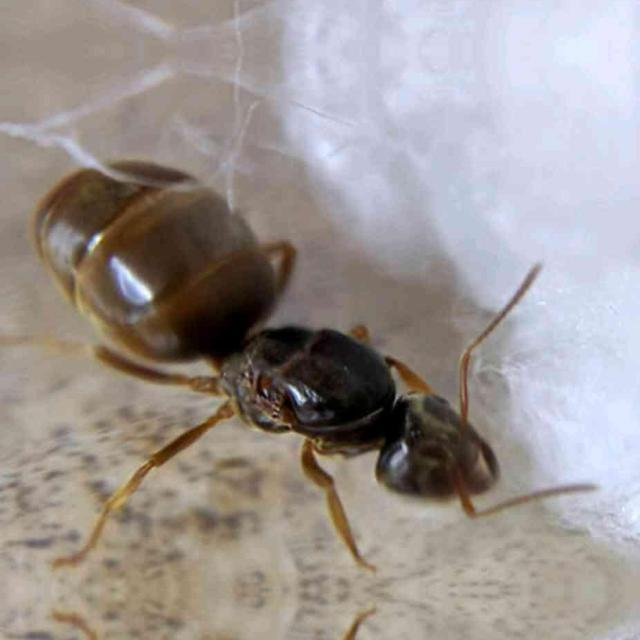Lasius: (0, 50, 518, 514)
